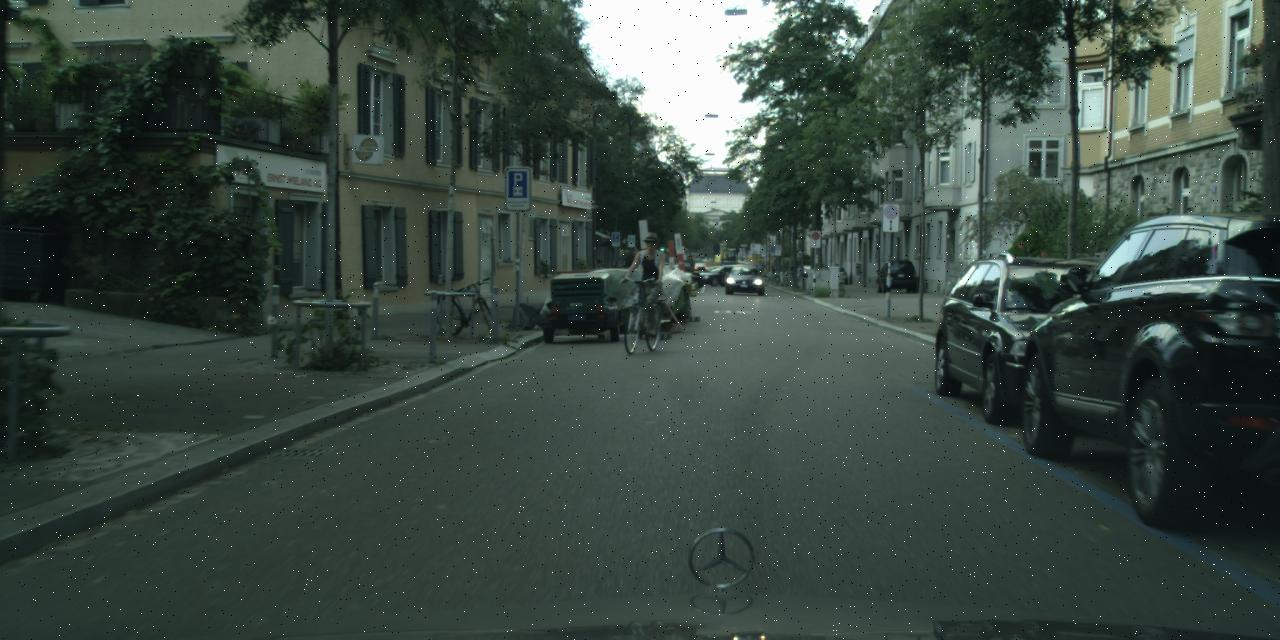ped: (628, 232, 668, 333), (796, 265, 802, 280)
